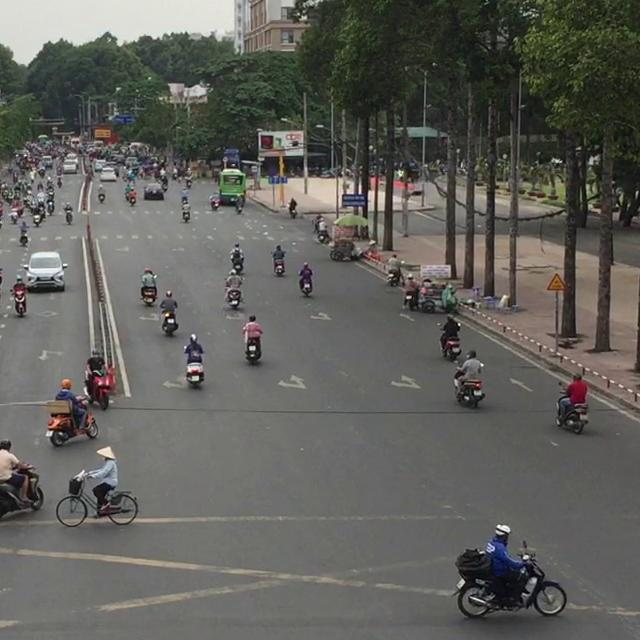Motorcycle: (452, 539, 567, 618), (45, 396, 99, 447), (0, 464, 44, 522), (555, 384, 589, 434), (83, 362, 116, 410), (453, 363, 485, 408), (436, 322, 461, 362), (184, 349, 204, 386), (243, 329, 262, 365), (160, 305, 178, 336), (9, 287, 27, 316), (224, 281, 242, 309), (140, 280, 157, 306), (298, 271, 312, 297), (271, 252, 285, 276), (315, 222, 329, 243)
